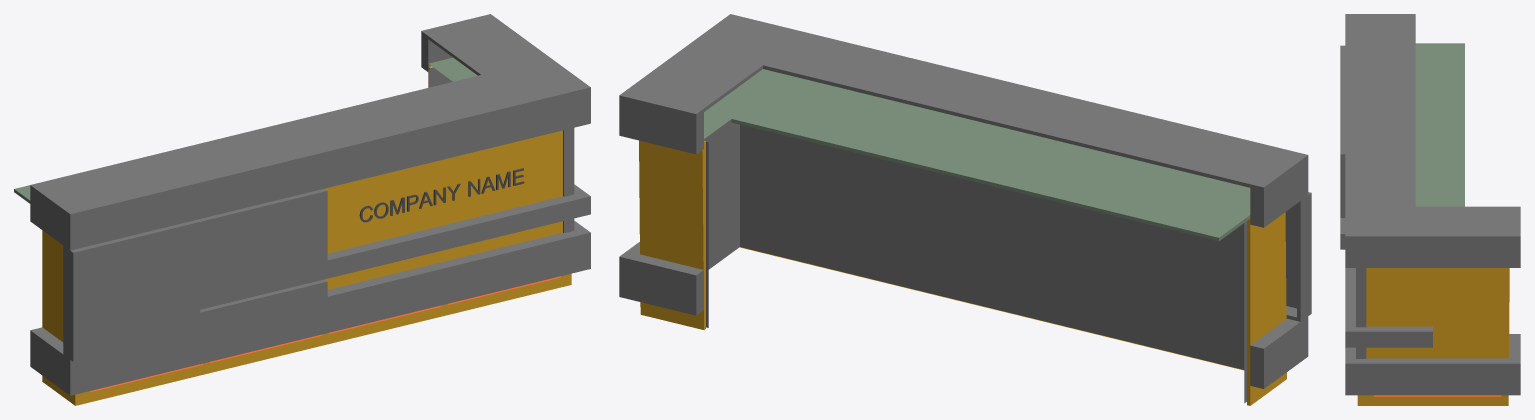
Rendered from Reception_Desk_1_fbx.FBX.
The picture shows the model from 3 angles, left to right: view 1: azimuth 30°, elevation 25°; view 2: azimuth 150°, elevation 25°; view 3: azimuth 270°, elevation 25°; orthographic projection. The views are drawn at different scales.
Visible parts, largest first — view 1: Reception_desk_1_8, Reception_desk_1_4, Reception_desk_1_1, Reception_desk_1_2, Reception_desk_1_5, Reception_desk_1_14, Reception_desk_1_3, Reception_desk_1_6, Reception_desk_1_13; view 2: Reception_desk_1_12, Reception_desk_1_8, Reception_desk_1_13, Reception_desk_1_1, Reception_desk_1_2, Reception_desk_1_4; view 3: Reception_desk_1_8, Reception_desk_1_1, Reception_desk_1_13, Reception_desk_1_2, Reception_desk_1_5, Reception_desk_1_4, Reception_desk_1_3, Reception_desk_1_6.
Boxes of the visible parts, x1,y1,x2,y2 form: Reception_desk_1_8: (30,14,590,250); Reception_desk_1_4: (63,188,327,361); Reception_desk_1_1: (42,66,571,405); Reception_desk_1_2: (30,221,590,395); Reception_desk_1_5: (200,184,590,309); Reception_desk_1_14: (359,168,524,222); Reception_desk_1_3: (563,128,574,233); Reception_desk_1_6: (90,276,560,391); Reception_desk_1_13: (14,57,477,203); Reception_desk_1_12: (704,119,1246,403); Reception_desk_1_8: (619,14,1308,227); Reception_desk_1_13: (704,69,1250,241); Reception_desk_1_1: (639,140,1286,405); Reception_desk_1_2: (619,242,1308,388); Reception_desk_1_4: (1285,192,1311,321); Reception_desk_1_8: (1345,14,1520,267); Reception_desk_1_1: (1357,268,1509,405); Reception_desk_1_13: (1415,43,1464,206); Reception_desk_1_2: (1345,334,1520,395); Reception_desk_1_5: (1345,268,1432,347); Reception_desk_1_4: (1340,45,1345,249); Reception_desk_1_3: (1356,268,1366,358); Reception_desk_1_6: (1373,395,1501,396).
Size of what is drawn, in the model's own units: 300 by 110 by 103.
